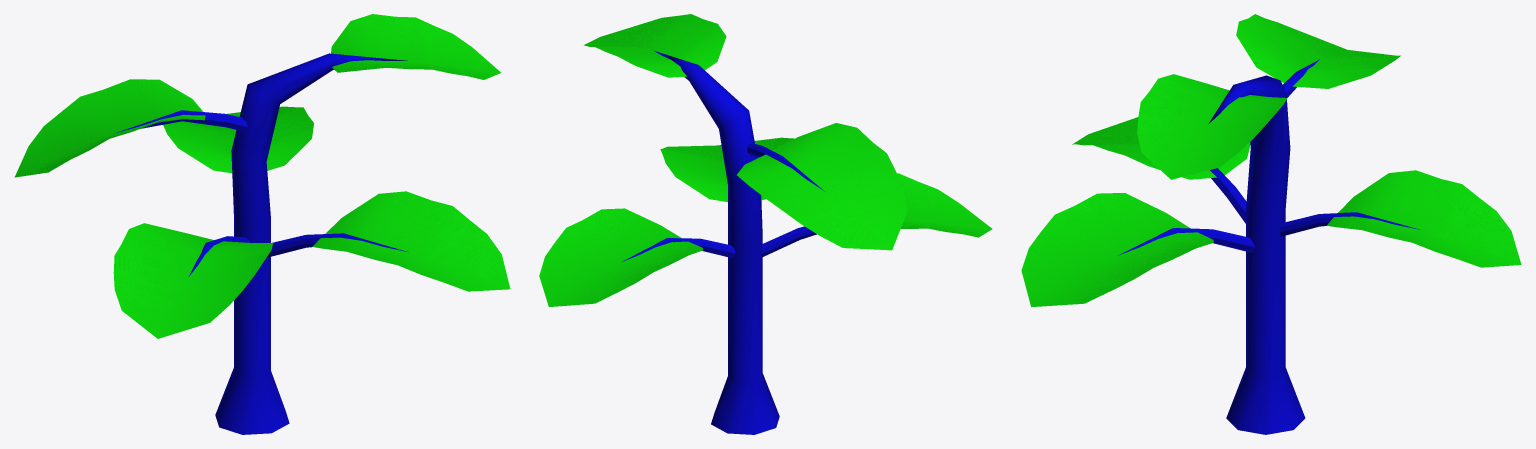
File: Eggplant_2.fbx
The picture shows the model from 3 angles, left to right: view 1: azimuth 30°, elevation 25°; view 2: azimuth 150°, elevation 25°; view 3: azimuth 270°, elevation 25°; orthographic projection. The views are drawn at different scales.
Parts seen in each view (by area): view 1: BSTC_Eggplant_2; view 2: BSTC_Eggplant_2; view 3: BSTC_Eggplant_2.
Part boxes in pixels (x1,y1,x2,y2): BSTC_Eggplant_2: [14, 14, 510, 434]; BSTC_Eggplant_2: [539, 14, 992, 434]; BSTC_Eggplant_2: [1021, 14, 1521, 434].
Bounding box in the file's own units: 59.62 × 52.49 × 62.49.
